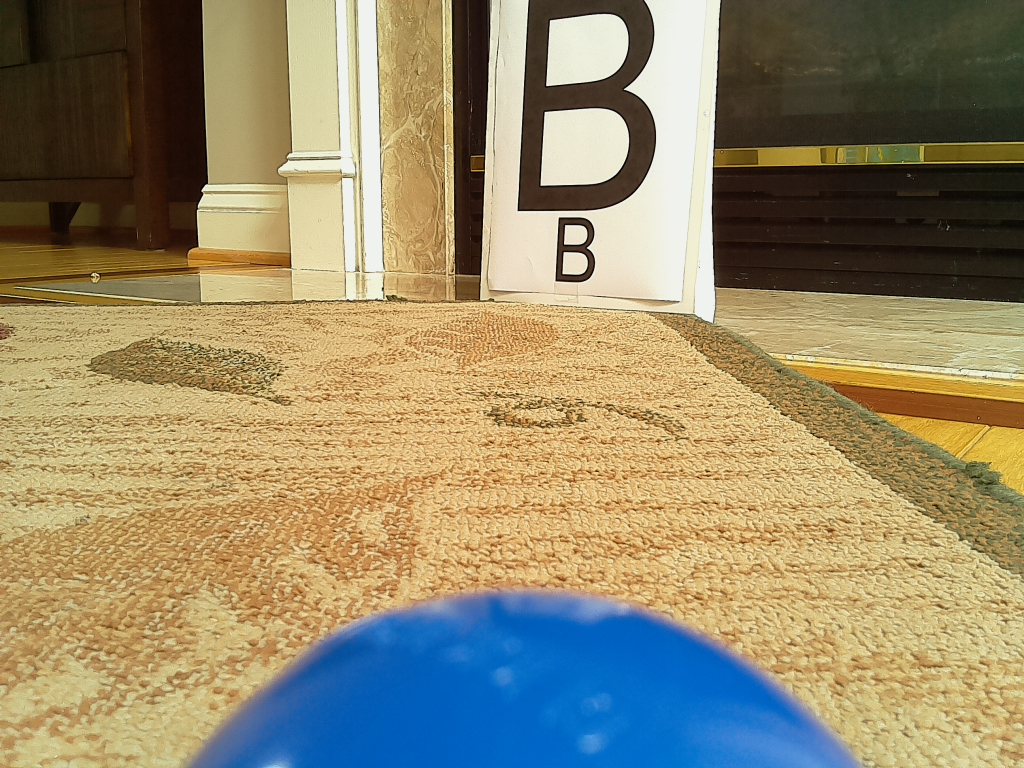letter: (527, 1, 657, 212)
